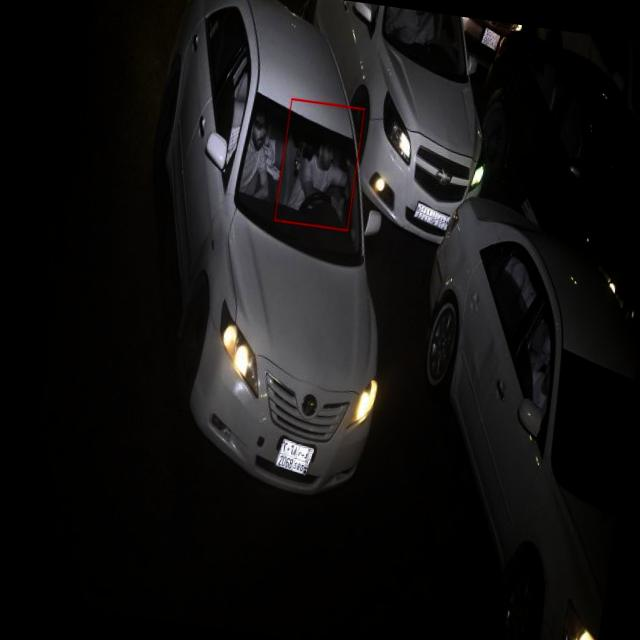person_without_seatbelt: (280, 110, 360, 224)
